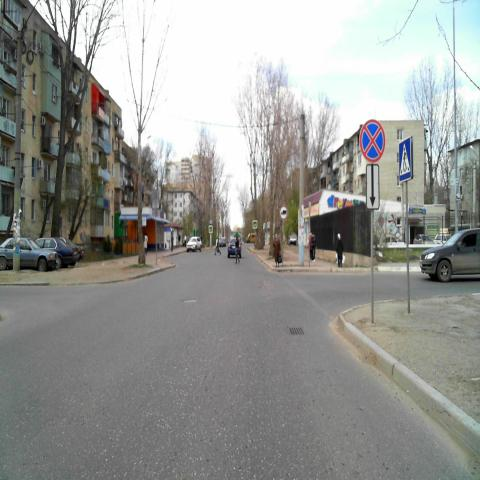2_4: (307, 200, 312, 216)
3_27: (359, 118, 384, 164)
3_4_1: (279, 204, 288, 221)
5_19_1: (397, 139, 411, 185), (208, 224, 214, 234), (252, 220, 258, 229)
8_2_3: (365, 162, 379, 208)
